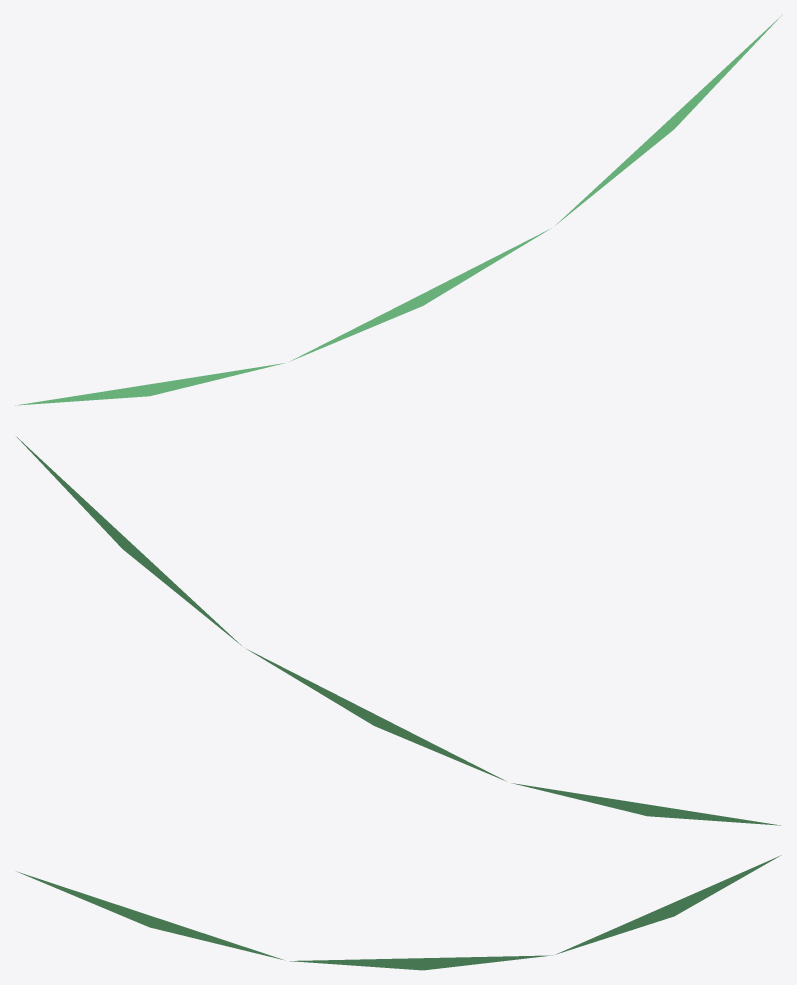
Rendered from kuka_link_6_vis_5.dae.
The picture shows the model from 3 angles, top to bottom: view 1: azimuth 30°, elevation 25°; view 2: azimuth 150°, elevation 25°; view 3: azimuth 330°, elevation 25°; orthographic projection.
Visible parts, largest first — view 1: Node_0000015C5C912980; view 2: Node_0000015C5C912980; view 3: Node_0000015C5C912980.
Boxes of the visible parts, <box> form: Node_0000015C5C912980: <box>15,14,782,405</box>; Node_0000015C5C912980: <box>16,436,780,825</box>; Node_0000015C5C912980: <box>16,855,781,970</box>.
Bounding box in the file's own units: 0.0614 × 0.0173 × 1e-05.
